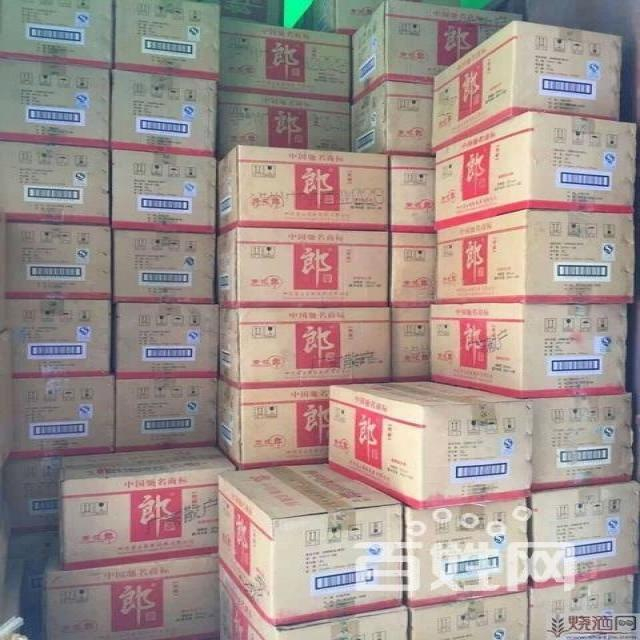box: (217, 461, 407, 629), (322, 378, 530, 509), (434, 21, 623, 154), (437, 109, 636, 228), (61, 446, 240, 571), (350, 0, 526, 107), (430, 304, 630, 398), (437, 209, 634, 303), (215, 554, 409, 639), (215, 143, 391, 235), (217, 300, 392, 389), (41, 552, 219, 639), (214, 225, 392, 309), (408, 491, 529, 607), (221, 19, 353, 112), (531, 484, 639, 588), (217, 375, 333, 468), (0, 54, 112, 146), (0, 138, 113, 227), (531, 393, 634, 490), (108, 146, 219, 233), (5, 371, 114, 459), (0, 294, 115, 376), (112, 71, 221, 157), (0, 222, 114, 301), (112, 1, 222, 80), (111, 300, 219, 375), (114, 374, 218, 450), (112, 228, 217, 302), (219, 100, 354, 157), (1, 3, 115, 70), (527, 575, 636, 638), (408, 585, 531, 639), (350, 81, 434, 155), (8, 458, 61, 562), (387, 155, 436, 232), (391, 229, 439, 305), (389, 304, 432, 378), (293, 0, 383, 35), (19, 554, 54, 637), (222, 0, 285, 27)
